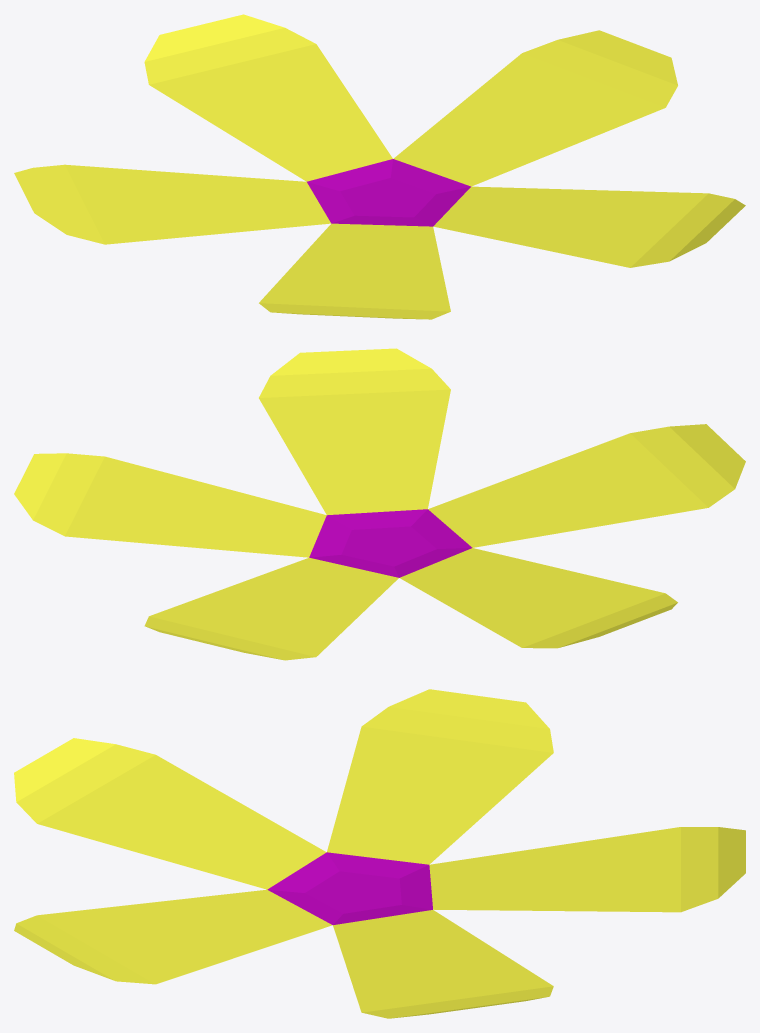
Rendered from Flower_07.fbx.
3 views of the same model, one above another, from view 1: azimuth 30°, elevation 25°; view 2: azimuth 150°, elevation 25°; view 3: azimuth 270°, elevation 25° (orthographic). The views are drawn at different scales.
Parts seen in each view (by area): view 1: Flower_07; view 2: Flower_07; view 3: Flower_07.
Boxes of the visible parts, x1=… form: Flower_07: x1=14, y1=14, x2=745, y2=319; Flower_07: x1=14, y1=348, x2=745, y2=660; Flower_07: x1=14, y1=689, x2=745, y2=1018.
Size of the model in its own units: 35.92 by 2.09 by 34.16.
